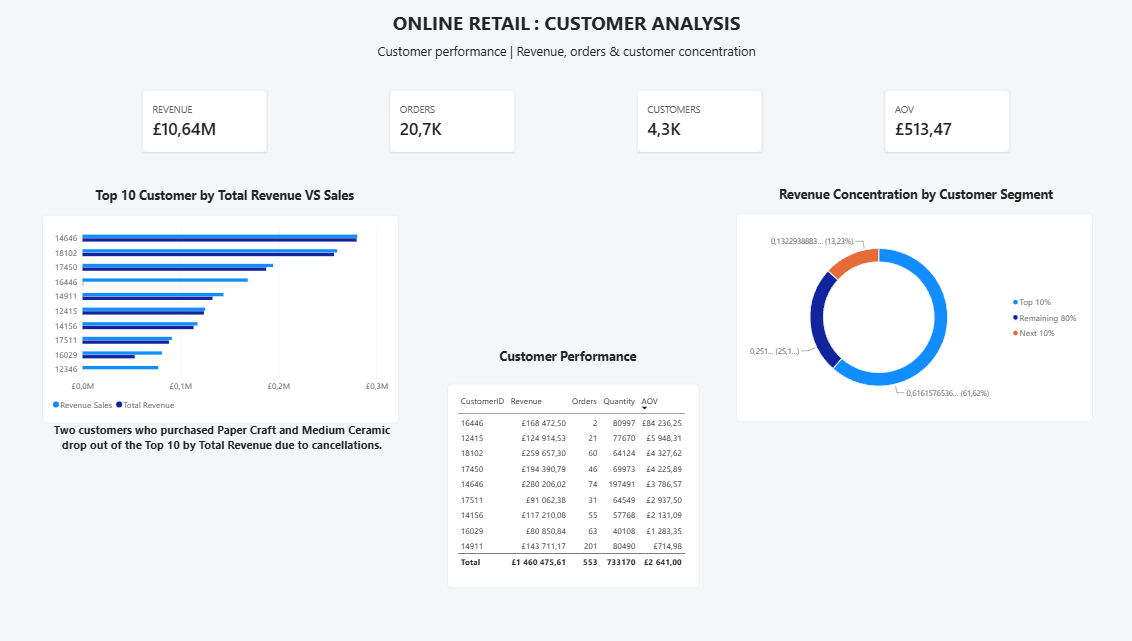

Layout of this report page (visuals, bound fields, positions):
{"tool":"powerbi","page":{"name":"CUSTOMERS","canvas":[1920,1080],"ordinal":2},"visuals":[{"type":"textbox","box":[0,16.8,1920.4,166.2],"z":0},{"type":"textbox","box":[0,71.5,1920.4,185.1],"z":1000},{"type":"cardVisual","title":"Revenue","fields":{"Data":["Table.Revenue Sales"]},"box":[245.3,152.3,210,105],"z":2000},{"type":"cardVisual","title":"Revenue","fields":{"Data":["Table.Average Order Value"]},"box":[1495.3,152.3,210,105],"z":3000},{"type":"cardVisual","title":"Revenue","fields":{"Data":["Table.Total Orders"]},"box":[662,152.3,210,105],"z":4000},{"type":"textbox","box":[0,313,1920.4,46.5],"z":5000},{"type":"clusteredBarChart","fields":{"Category":["Table.CustomerID"],"Y":["Table.Revenue Sales","Table.Total Revenue"]},"box":[78.5,360.7,600,350],"z":6000},{"type":"textbox","box":[44.6,314.1,681.2,46.7],"z":7000},{"type":"textbox","box":[1232.1,312.3,630.9,46.7],"z":8000},{"type":"textbox","box":[79.5,711.4,601,53],"z":9000},{"type":"cardVisual","title":"Revenue","fields":{"Data":["Table.Total Customers"]},"box":[1078.7,152.5,210,105],"z":10000},{"type":"donutChart","fields":{"Category":["Customer Segments.Segment"],"Y":["Customer Segments.Revenue Concentration"]},"box":[1246.1,360.1,600,350],"z":11000},{"type":"tableEx","fields":{"Values":["Table.CustomerID","Table.Revenue Sales","Table.Total Orders","Table.Total Quantity","Table.Average Order Value"]},"box":[760,646,424,344],"z":12000},{"type":"textbox","box":[679.8,584.2,565.6,61.1],"z":13000}]}

Visuals, with their boxes in screenshot pixels (x1, y1, x2, y2), scaled from the page's 1920x1080 canvas onto the 1132x641 screenshot:
textbox: [0,10,1131,109]
textbox: [0,42,1131,152]
"Revenue" cardVisual: [145,90,268,153]
"Revenue" cardVisual: [882,90,1005,153]
"Revenue" cardVisual: [390,90,514,153]
textbox: [0,186,1131,213]
clusteredBarChart - Table.CustomerID x Table.Revenue Sales: [46,214,400,422]
textbox: [26,186,428,214]
textbox: [726,185,1098,213]
textbox: [47,422,401,454]
"Revenue" cardVisual: [636,91,760,153]
donutChart - Customer Segments.Segment x Customer Segments.Revenue Concentration: [735,214,1088,421]
tableEx - Table.CustomerID x Table.Revenue Sales: [448,383,698,588]
textbox: [401,347,734,383]
